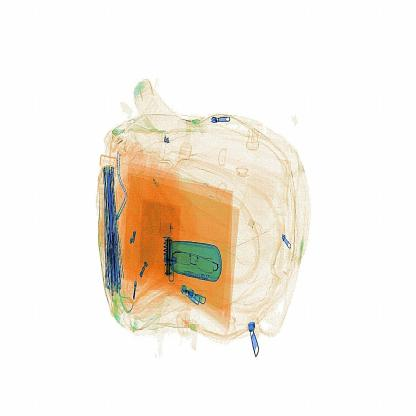scissors: (155, 222, 179, 286)
